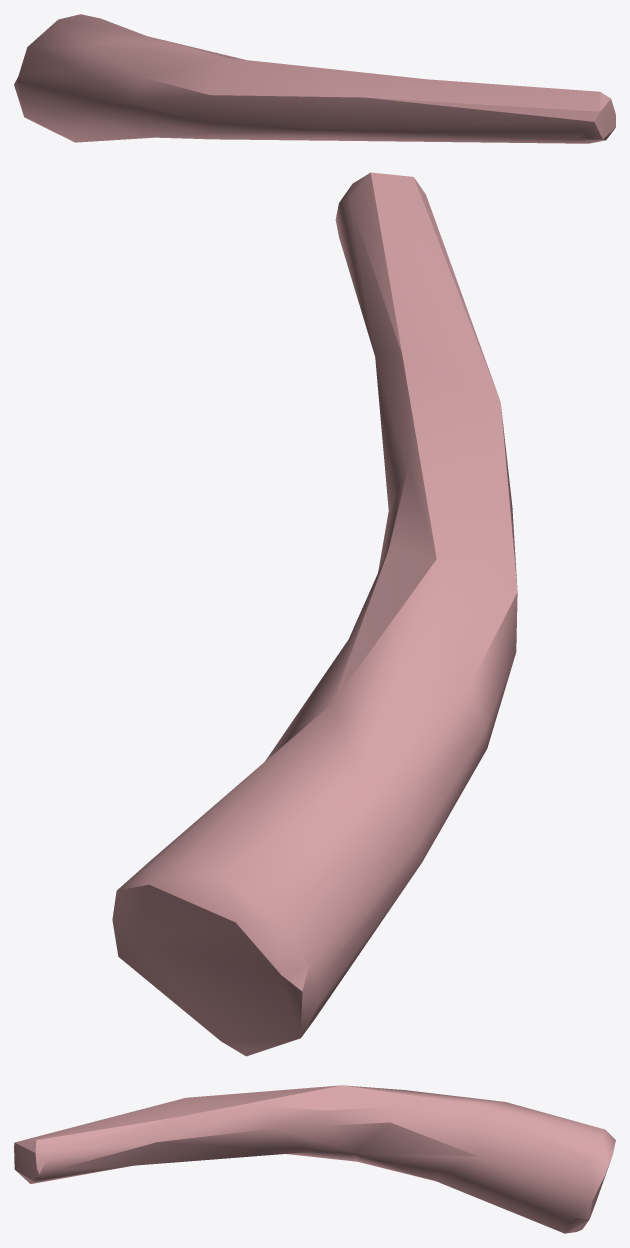
File: fma68222_fj2474.glb
3 renders of one model, top to bottom at view 1: azimuth 30°, elevation 25°; view 2: azimuth 150°, elevation 25°; view 3: azimuth 270°, elevation 25°, orthographic. The views are drawn at different scales.
Parts seen in each view (by area): view 1: FMA68222_FJ2474; view 2: FMA68222_FJ2474; view 3: FMA68222_FJ2474.
Part boxes in pixels (x1,y1,x2,y2): FMA68222_FJ2474: (14, 14, 615, 143); FMA68222_FJ2474: (112, 172, 517, 1056); FMA68222_FJ2474: (14, 1085, 615, 1233).
Size of the model in its own units: 0.0128 by 0.00887 by 0.025.
